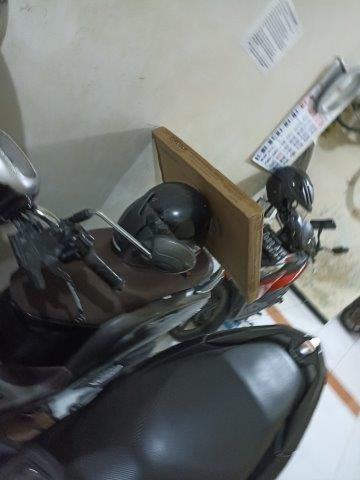kardus: (153, 127, 263, 301)
